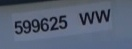2: (49, 16, 58, 31)
5: (59, 14, 67, 30), (14, 20, 23, 34)
6: (40, 17, 48, 31)
9: (23, 19, 31, 34), (31, 18, 39, 32)
w: (95, 8, 112, 24), (79, 12, 94, 25)
